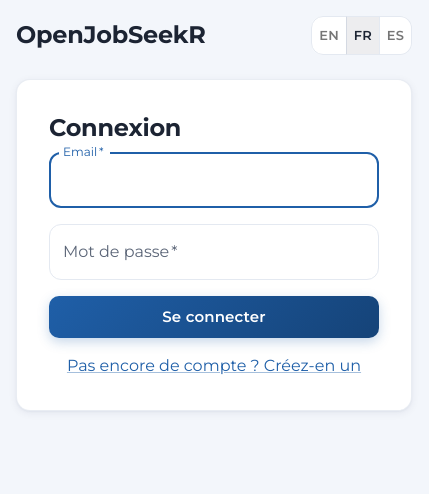
Test case: authentication flow › shows the translated API error on wrong credentials
Type "jane@example.com" into the field labelled "Email *".
click(214, 180); type("jane@example.com")  # box [49, 152, 379, 208]
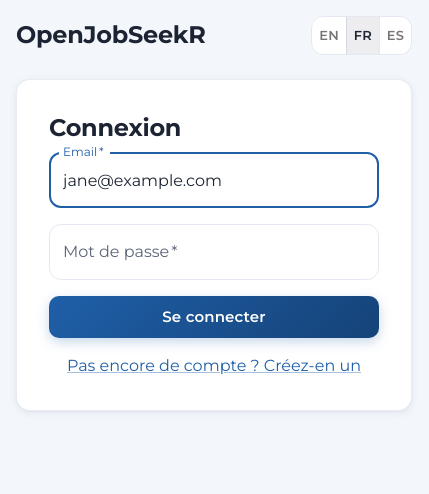
Type "wrong password" into the password field labelled "Mot de passe *".
click(214, 252); type("wrong password")  # box [49, 224, 379, 280]
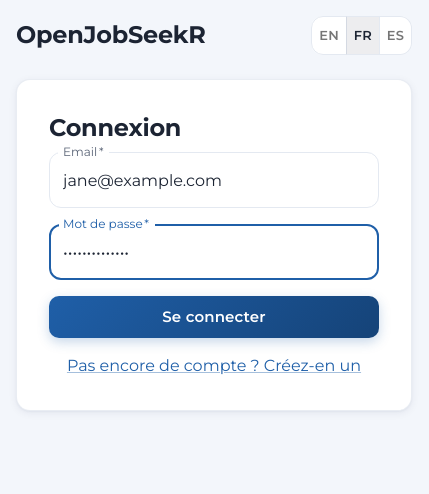
Click the button "Se connecter".
click(214, 317)  # box [49, 296, 379, 338]
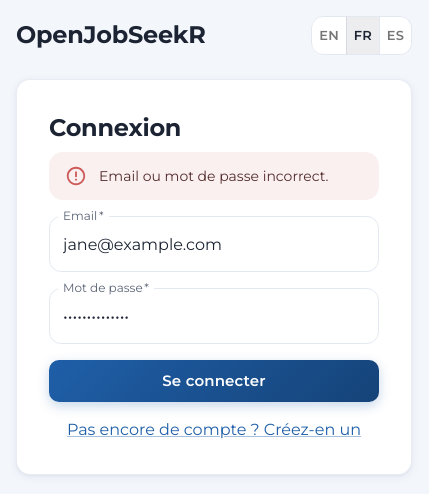
Result: the text "Email ou mot de passe incorrect." is shown at [99, 167, 328, 185]
